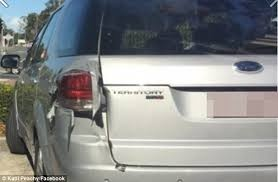Broken-glass: (57, 70, 102, 114)
Dent: (51, 109, 120, 133)
